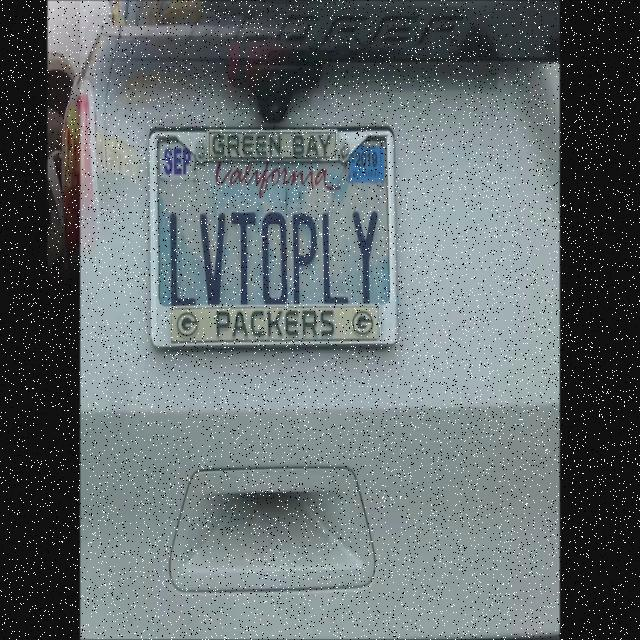licenseplate: (140, 114, 412, 372)
